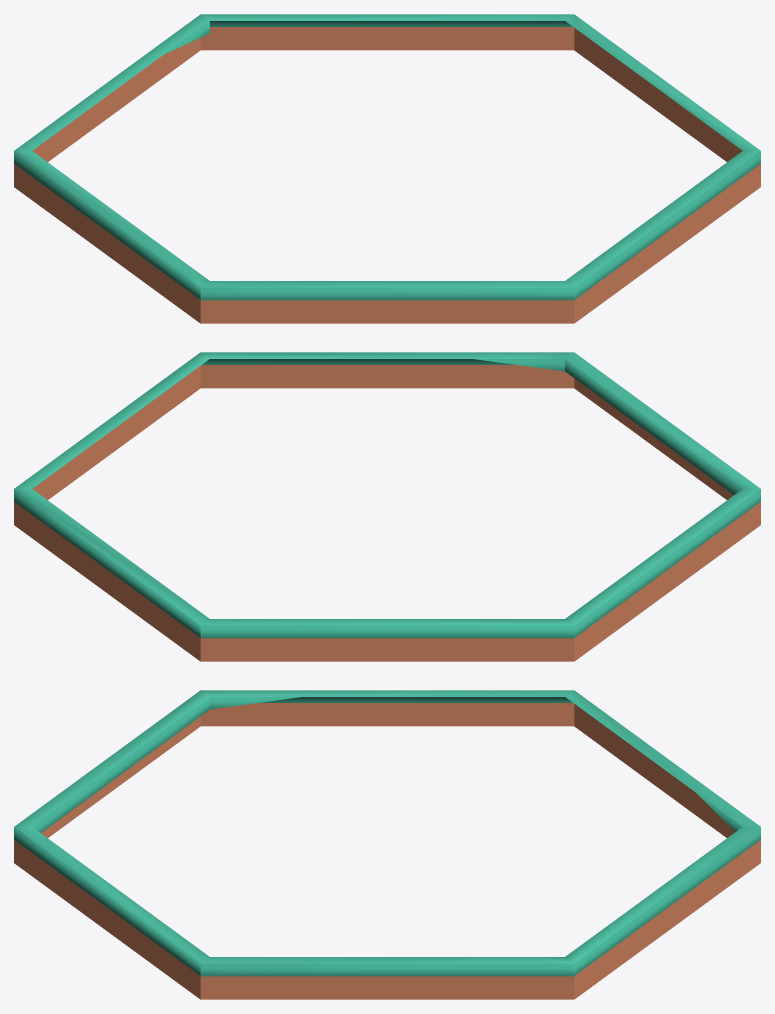
The model's file is highlight.fbx.
The picture shows the model from 3 angles, top to bottom: view 1: azimuth 30°, elevation 25°; view 2: azimuth 150°, elevation 25°; view 3: azimuth 270°, elevation 25°; orthographic projection.
Parts seen in each view (by area): view 1: grass; view 2: grass; view 3: grass.
Boxes of the visible parts, x1,y1,x2,y2 form: grass: (14, 14, 760, 323); grass: (14, 352, 760, 661); grass: (14, 690, 760, 999).
Size of the model in its own units: 95 by 5.87 by 110.
